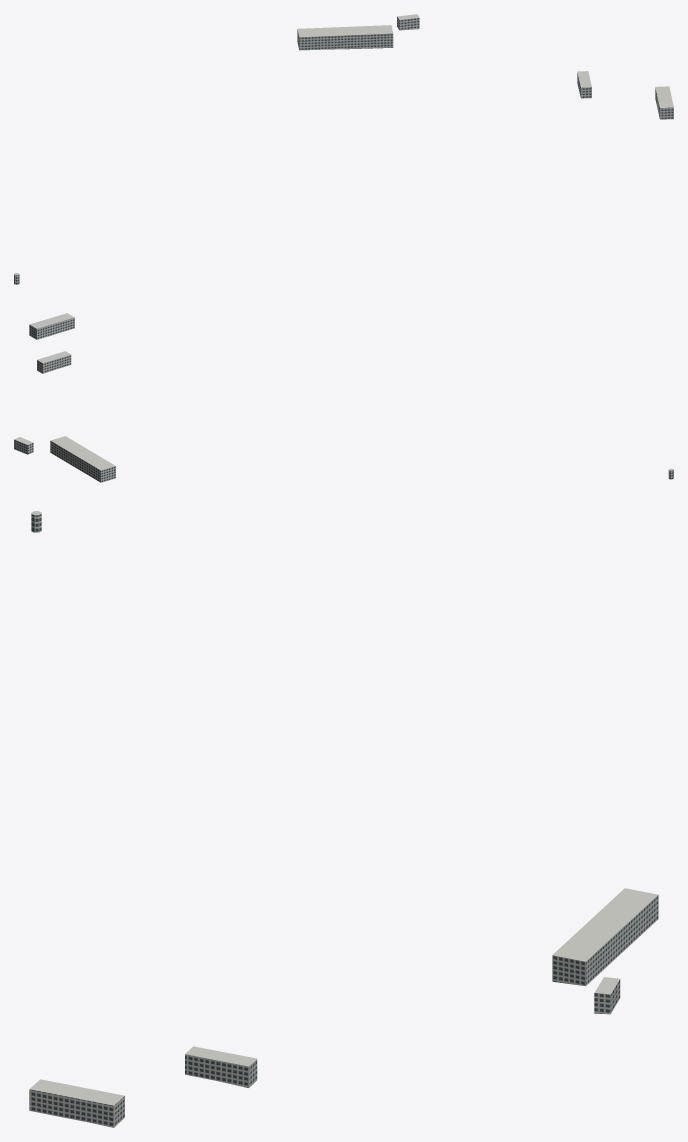
Rendered from city_1_0.glb.
3 renders of one model, top to bottom at view 1: azimuth 30°, elevation 25°; view 2: azimuth 150°, elevation 25°; view 3: azimuth 270°, elevation 25°, orthographic. The views are drawn at different scales.
Size of the model in its own units: 849 by 26.65 by 370.
1 material, 1 textured.
